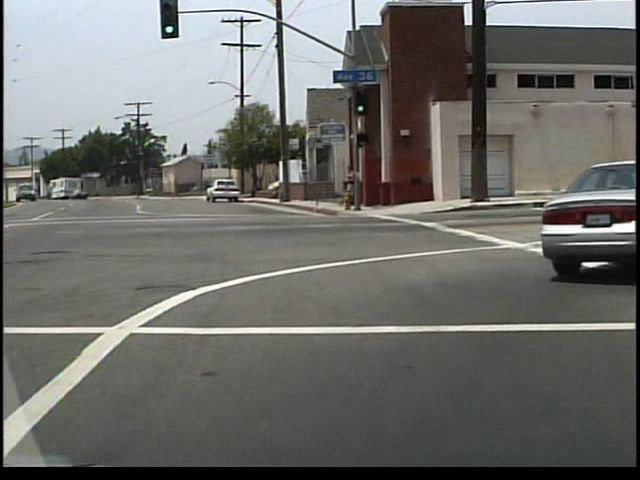person: (348, 167, 367, 213)
